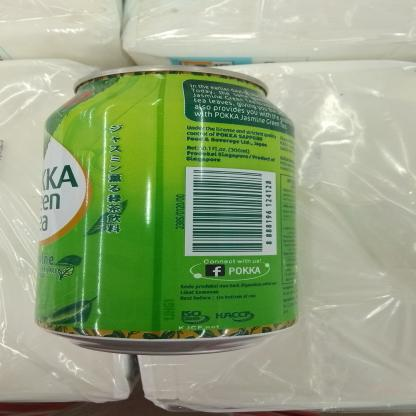mouse: (27, 63, 309, 357)
